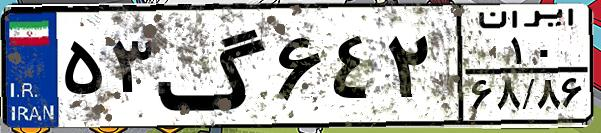0: (537, 27, 568, 80)
1: (508, 27, 537, 80)
2: (385, 28, 445, 110)
3: (110, 28, 156, 98)
4: (330, 28, 385, 110)
5: (57, 26, 110, 100)
6: (270, 28, 330, 110), (560, 70, 590, 125), (470, 70, 495, 125)
8: (495, 70, 520, 125), (535, 70, 560, 125)
گ: (156, 12, 270, 120)
